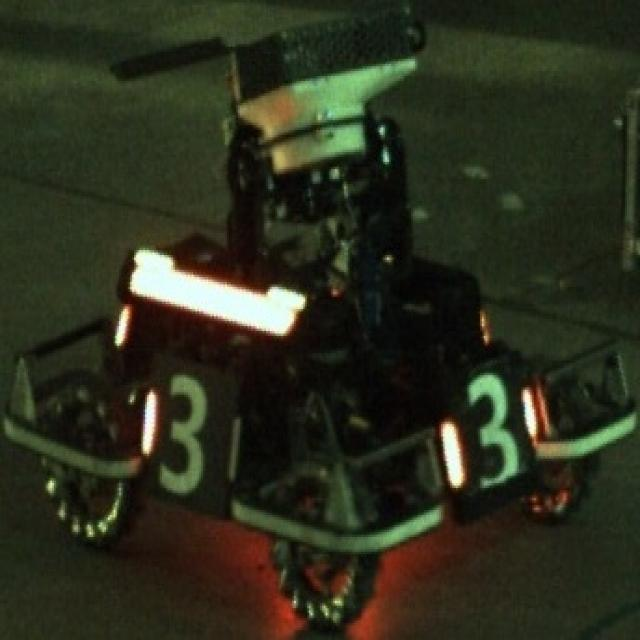R3: (441, 373, 536, 488)
